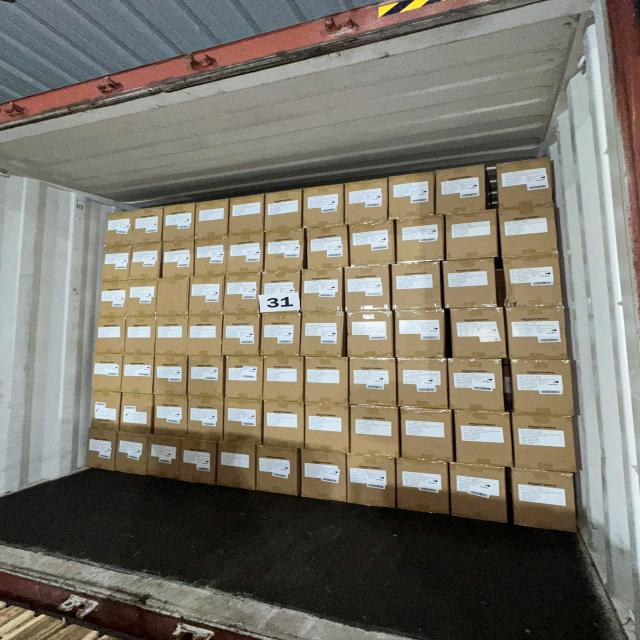Carton: (512, 468, 579, 532), (515, 411, 581, 471), (508, 357, 575, 414), (451, 464, 509, 526), (457, 409, 515, 468), (508, 310, 570, 362), (449, 356, 507, 411), (401, 407, 456, 463), (396, 458, 450, 515), (499, 205, 559, 256), (504, 258, 564, 308), (451, 309, 508, 361), (496, 160, 554, 208), (398, 356, 451, 408), (444, 260, 499, 309), (396, 309, 448, 360), (346, 456, 395, 510), (446, 211, 500, 259), (350, 405, 400, 456), (392, 262, 442, 312), (348, 358, 397, 409), (438, 167, 489, 216), (300, 449, 347, 502), (345, 310, 393, 360), (397, 218, 445, 265), (343, 264, 390, 312), (306, 403, 352, 452), (256, 445, 300, 496), (391, 174, 436, 221), (307, 355, 351, 403), (348, 223, 394, 268), (300, 312, 344, 358), (264, 401, 305, 449), (344, 179, 388, 223), (301, 268, 344, 313), (306, 225, 348, 270), (217, 441, 256, 489), (224, 399, 264, 445), (302, 186, 344, 229), (264, 230, 306, 273), (264, 355, 304, 400), (262, 314, 302, 358), (260, 271, 301, 313), (226, 355, 264, 399), (182, 442, 218, 488), (264, 191, 304, 231), (224, 273, 262, 314), (224, 314, 261, 356), (190, 397, 224, 442), (228, 233, 265, 274), (188, 314, 224, 356), (189, 355, 225, 397), (116, 433, 149, 478), (152, 395, 186, 438), (149, 436, 181, 481), (189, 275, 224, 315), (230, 195, 265, 235), (121, 395, 155, 436), (154, 316, 187, 358), (122, 355, 155, 396), (155, 356, 188, 397), (165, 202, 198, 241), (85, 428, 115, 470), (156, 278, 189, 316), (196, 200, 229, 238), (195, 239, 227, 278), (90, 352, 121, 392), (90, 392, 121, 432), (162, 242, 194, 280), (104, 209, 136, 247), (125, 317, 156, 356), (91, 317, 122, 356), (130, 245, 162, 281), (99, 281, 131, 317), (128, 278, 158, 316), (99, 248, 131, 282), (133, 206, 162, 243)
